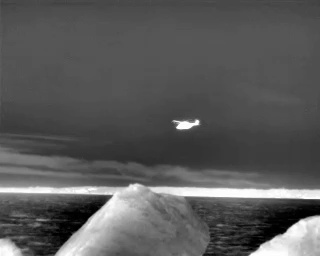HELICOPTER: (169, 113, 205, 136)
